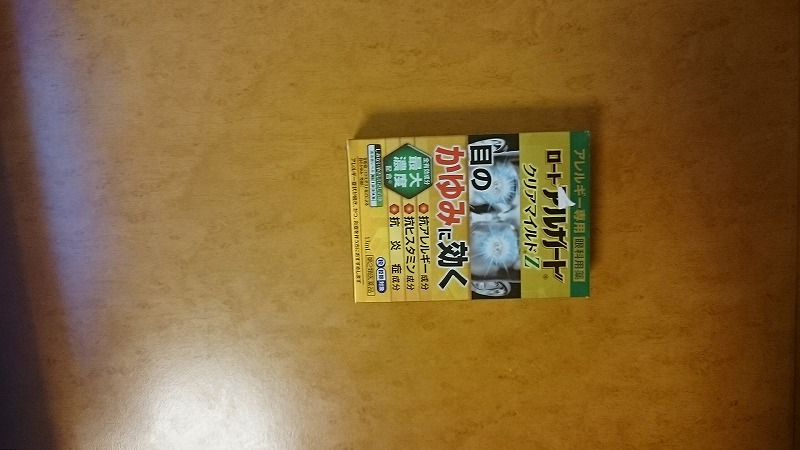C: (342, 130, 599, 303)
